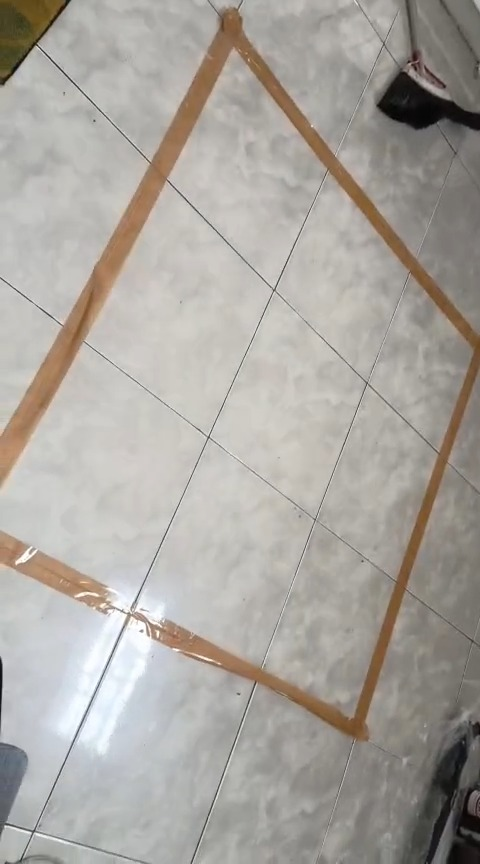floor marking: (0, 8, 479, 739)
